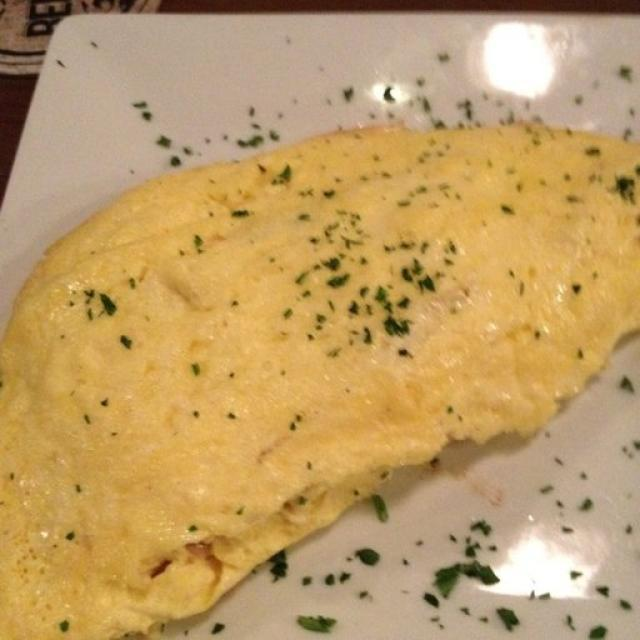telur_ayam_dadar: (1, 119, 640, 639)
